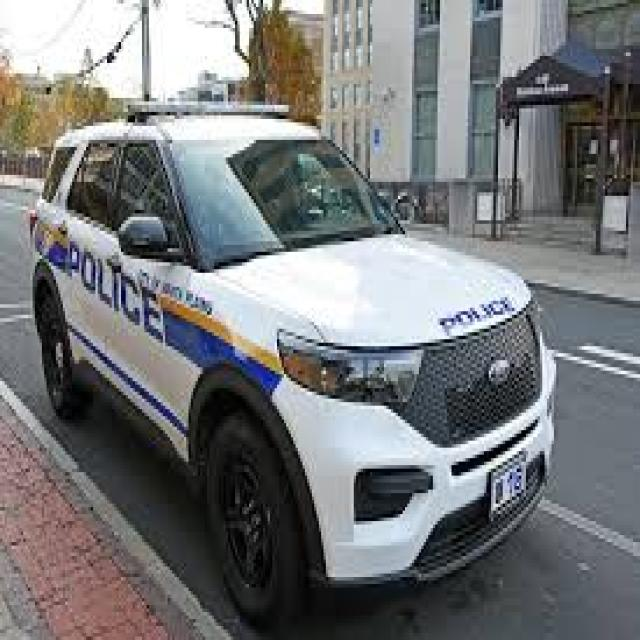cop: (29, 102, 560, 622)
